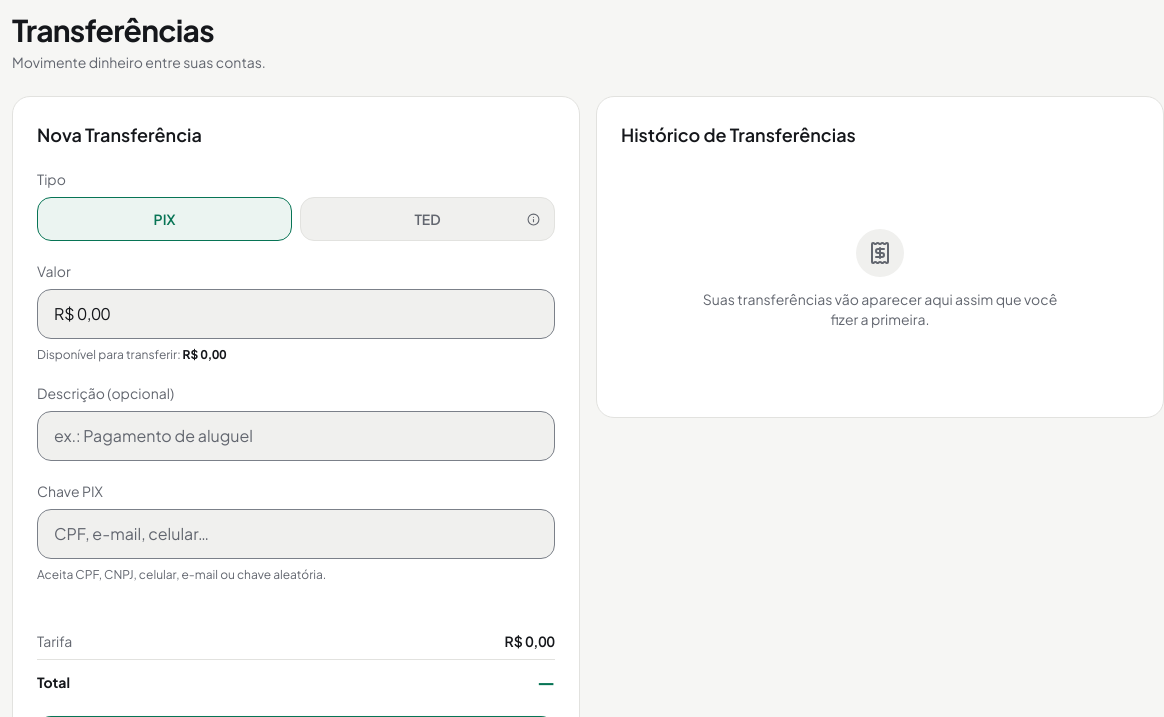
Scenario: Transferências: chave PIX só com números (reconhece e formata) › CNPJ: 11222333000181 vira 11.222.333/0001-81
Replace the text in the field named "Valor da transferência" with "1000". click: [296, 314]
box: 37,289 -> 555,339
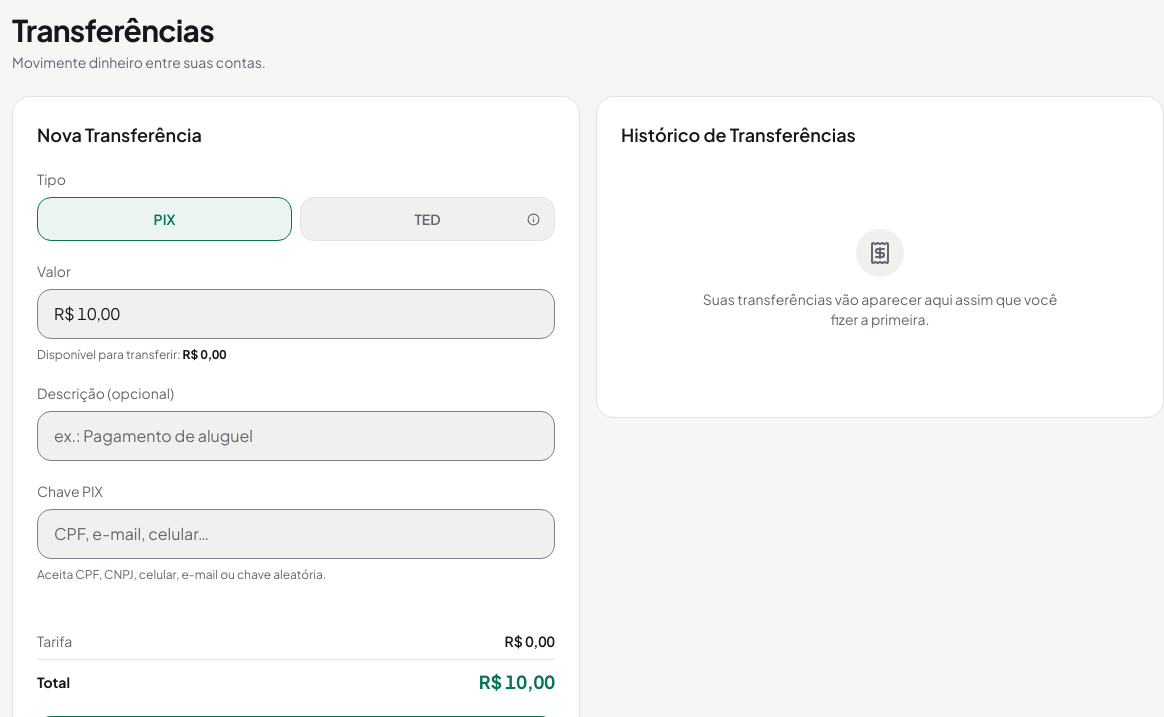
Type "11222333000181" into the field labelled "Chave PIX". click: [296, 534]
box: 37,509 -> 555,559
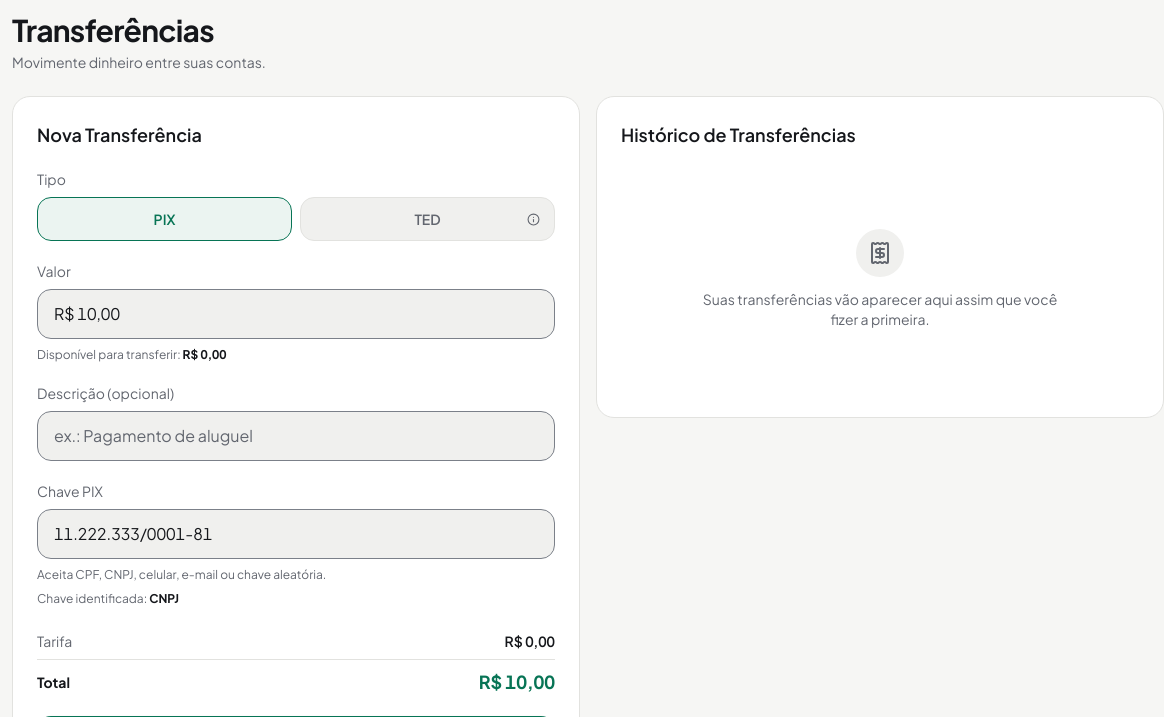
expect the field labelled "Chave PIX" holds "11.222.333/0001-81": met, box 37,509 -> 555,559
